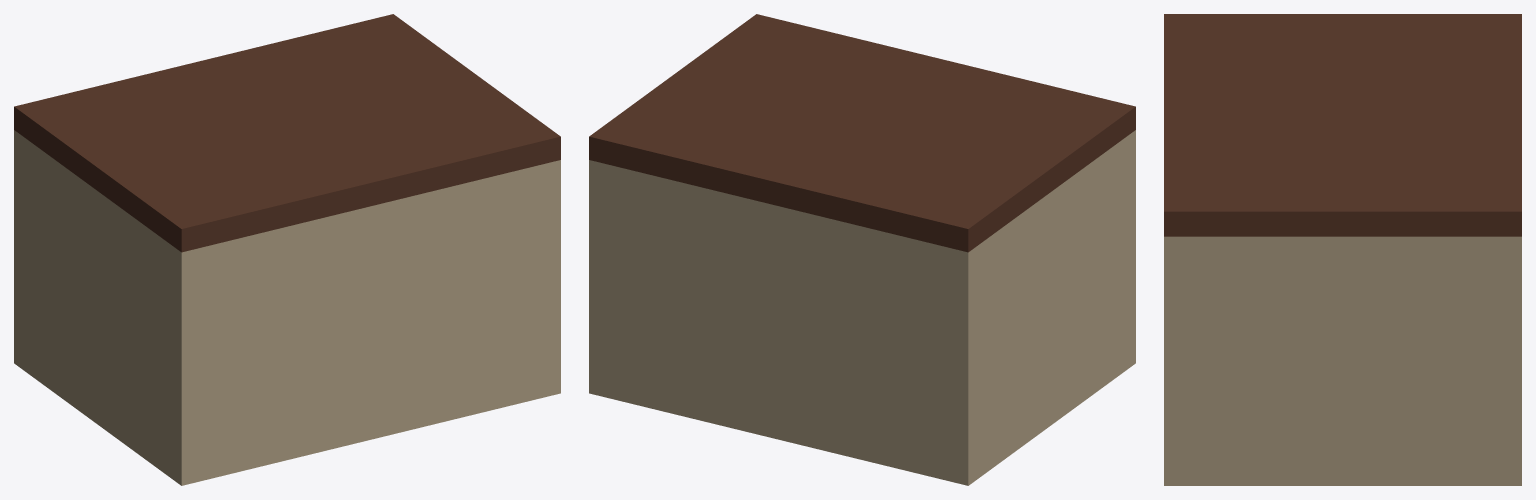
The model's file is building.glb.
3 views of the same model, side by side, from view 1: azimuth 30°, elevation 25°; view 2: azimuth 150°, elevation 25°; view 3: azimuth 270°, elevation 25° (orthographic). The views are drawn at different scales.
Parts seen in each view (by area): view 1: fixture_building; view 2: fixture_building; view 3: fixture_building.
Boxes of the visible parts, x1,y1,x2,y2 form: fixture_building: (14, 14, 560, 485); fixture_building: (589, 14, 1135, 485); fixture_building: (1164, 14, 1521, 485).
Size of the model in its own units: 8.5 by 5.5 by 6.5.
2 materials, 2 textured.
